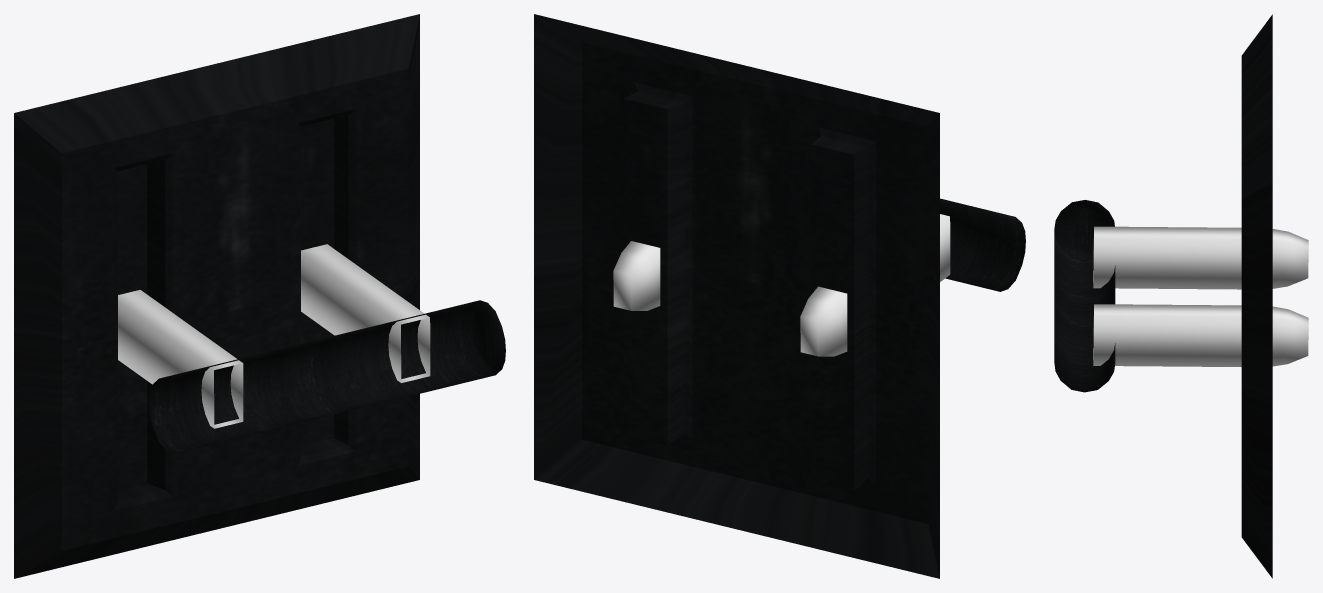
The model's file is Electric_Lever.fbx.
The picture shows the model from 3 angles, left to right: view 1: azimuth 30°, elevation 25°; view 2: azimuth 150°, elevation 25°; view 3: azimuth 270°, elevation 25°; orthographic projection. The views are drawn at different scales.
Parts seen in each view (by area): view 1: module.003, module.006; view 2: module.003, module.006; view 3: module.006, module.003.
Part boxes in pixels (box(x1,y1,x2,y2)): module.003: box(14, 14, 419, 578); module.006: box(118, 244, 505, 453); module.003: box(534, 14, 939, 578); module.006: box(613, 198, 1025, 356); module.006: box(1054, 200, 1308, 392); module.003: box(1241, 14, 1272, 578).
Bounding box in the file's own units: 19.11 × 20.96 × 12.19.
